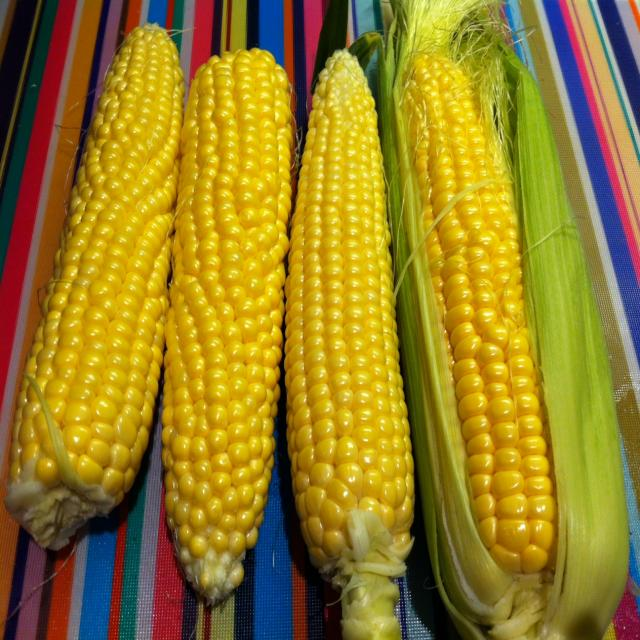corn: (399, 47, 591, 580), (144, 44, 308, 608), (15, 13, 172, 554), (280, 50, 408, 588)
